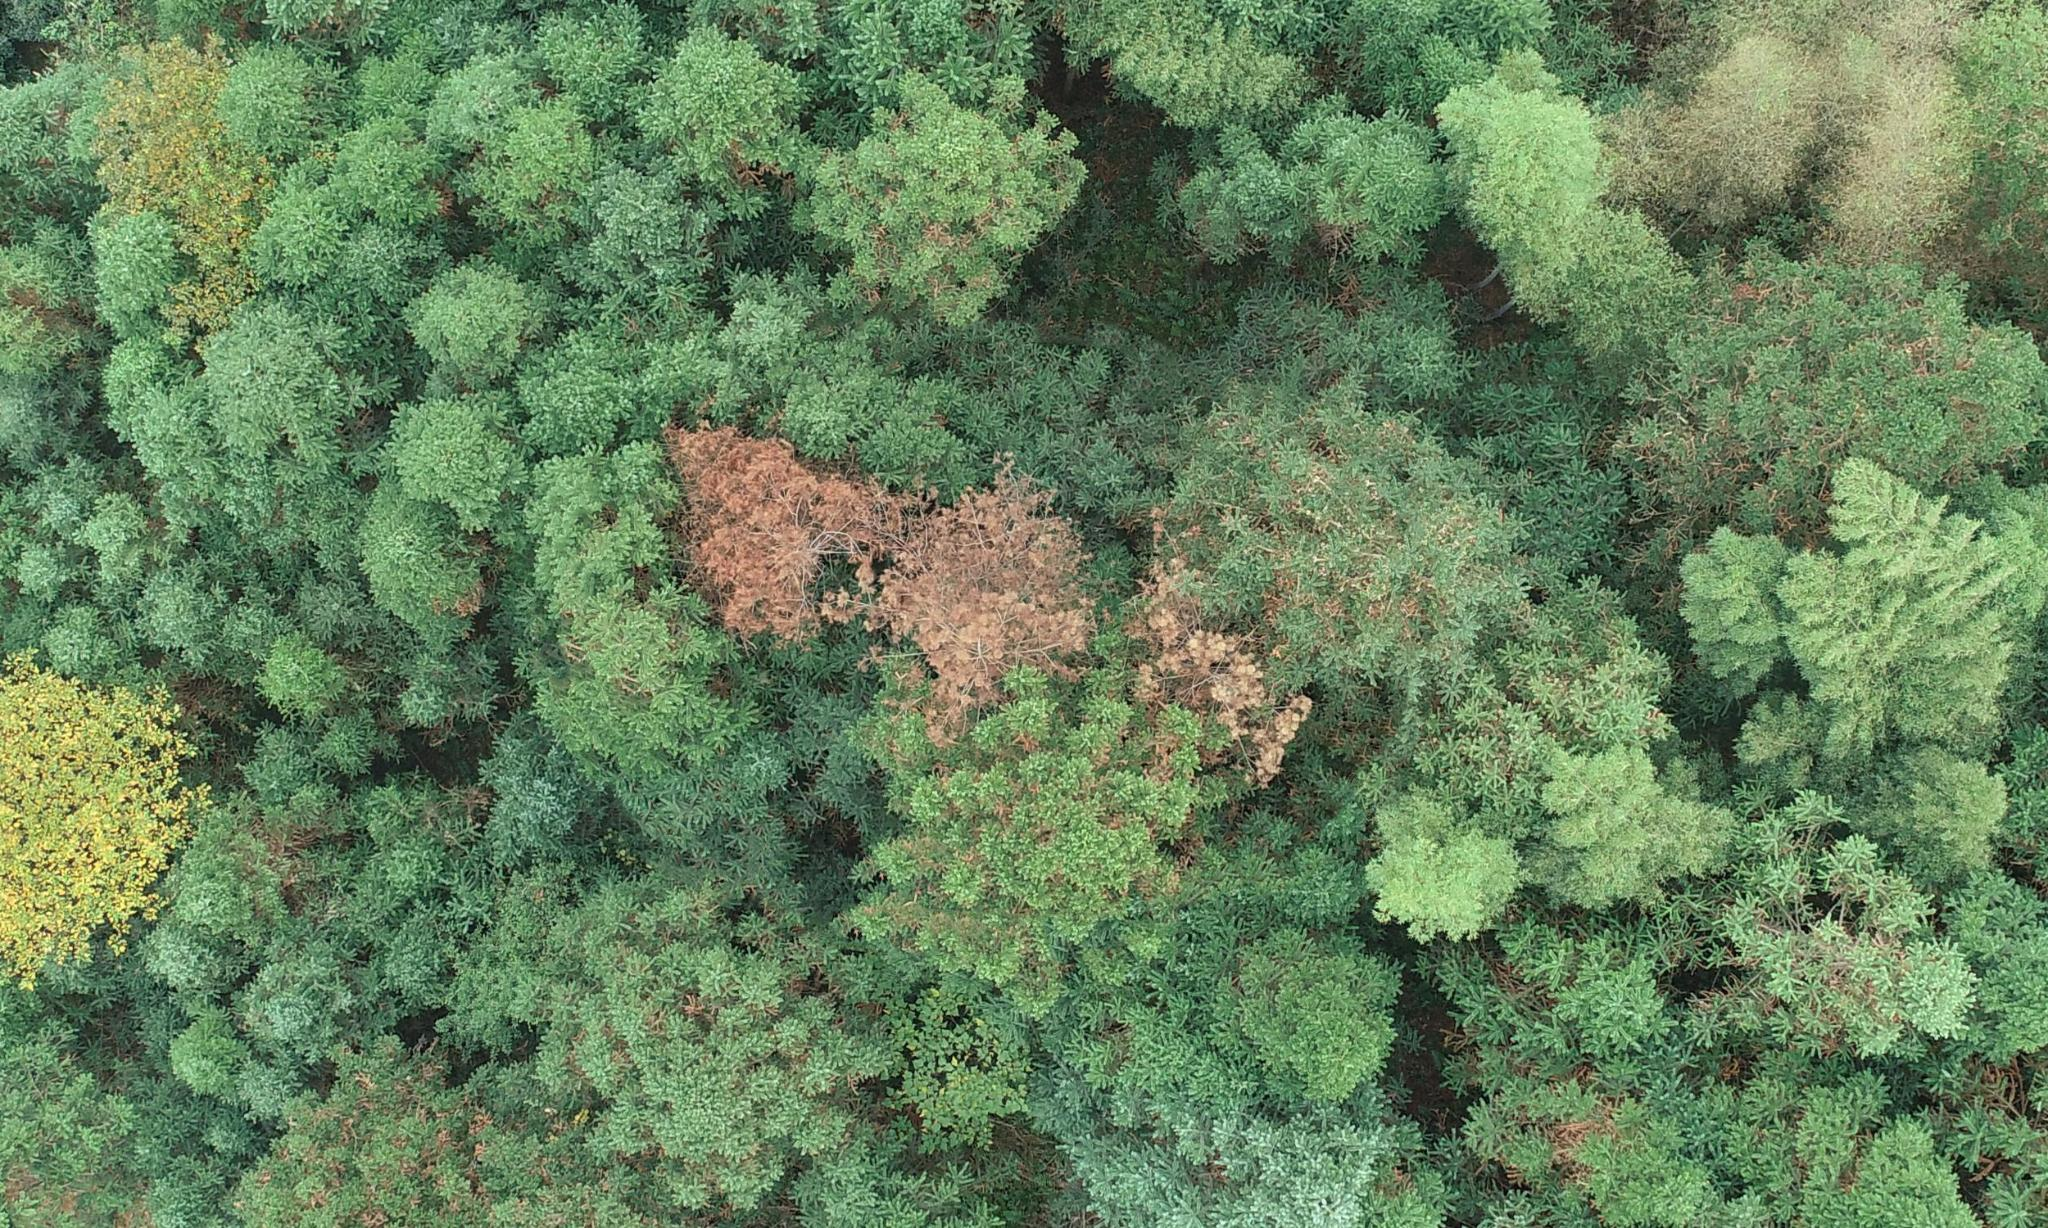heavy: (867, 453, 1079, 732), (1112, 554, 1311, 810), (665, 415, 839, 659)
